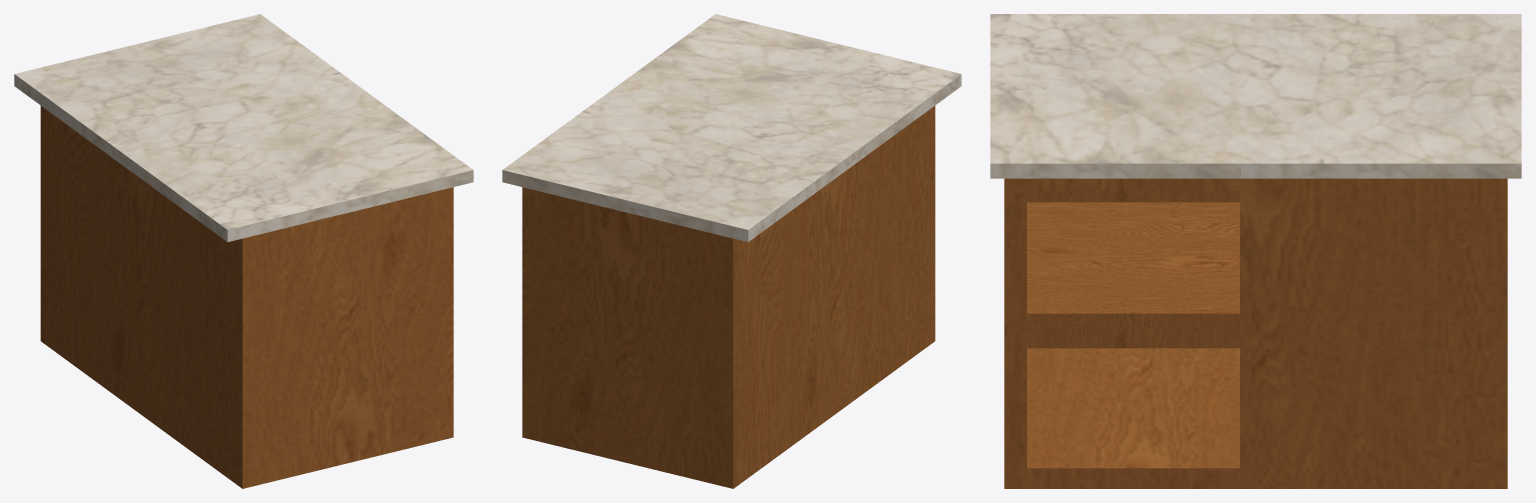
File: Cabinet_Island.fbx
3 views of the same model, side by side, from view 1: azimuth 30°, elevation 25°; view 2: azimuth 150°, elevation 25°; view 3: azimuth 270°, elevation 25° (orthographic). The views are drawn at different scales.
Visible parts, largest first — view 1: pCube18, Cover_Middle9; view 2: pCube18, Cover_Middle9; view 3: pCube18, Cover_Middle9.
Part boxes in pixels (left/top/right/bottom): pCube18: left=40, top=106, right=453, bottom=488; Cover_Middle9: left=14, top=14, right=473, bottom=242; pCube18: left=522, top=106, right=935, bottom=488; Cover_Middle9: left=502, top=14, right=961, bottom=242; pCube18: left=1004, top=178, right=1507, bottom=488; Cover_Middle9: left=990, top=14, right=1521, bottom=178.
Bounding box in the file's own units: 0.9621 × 1 × 1.44.
